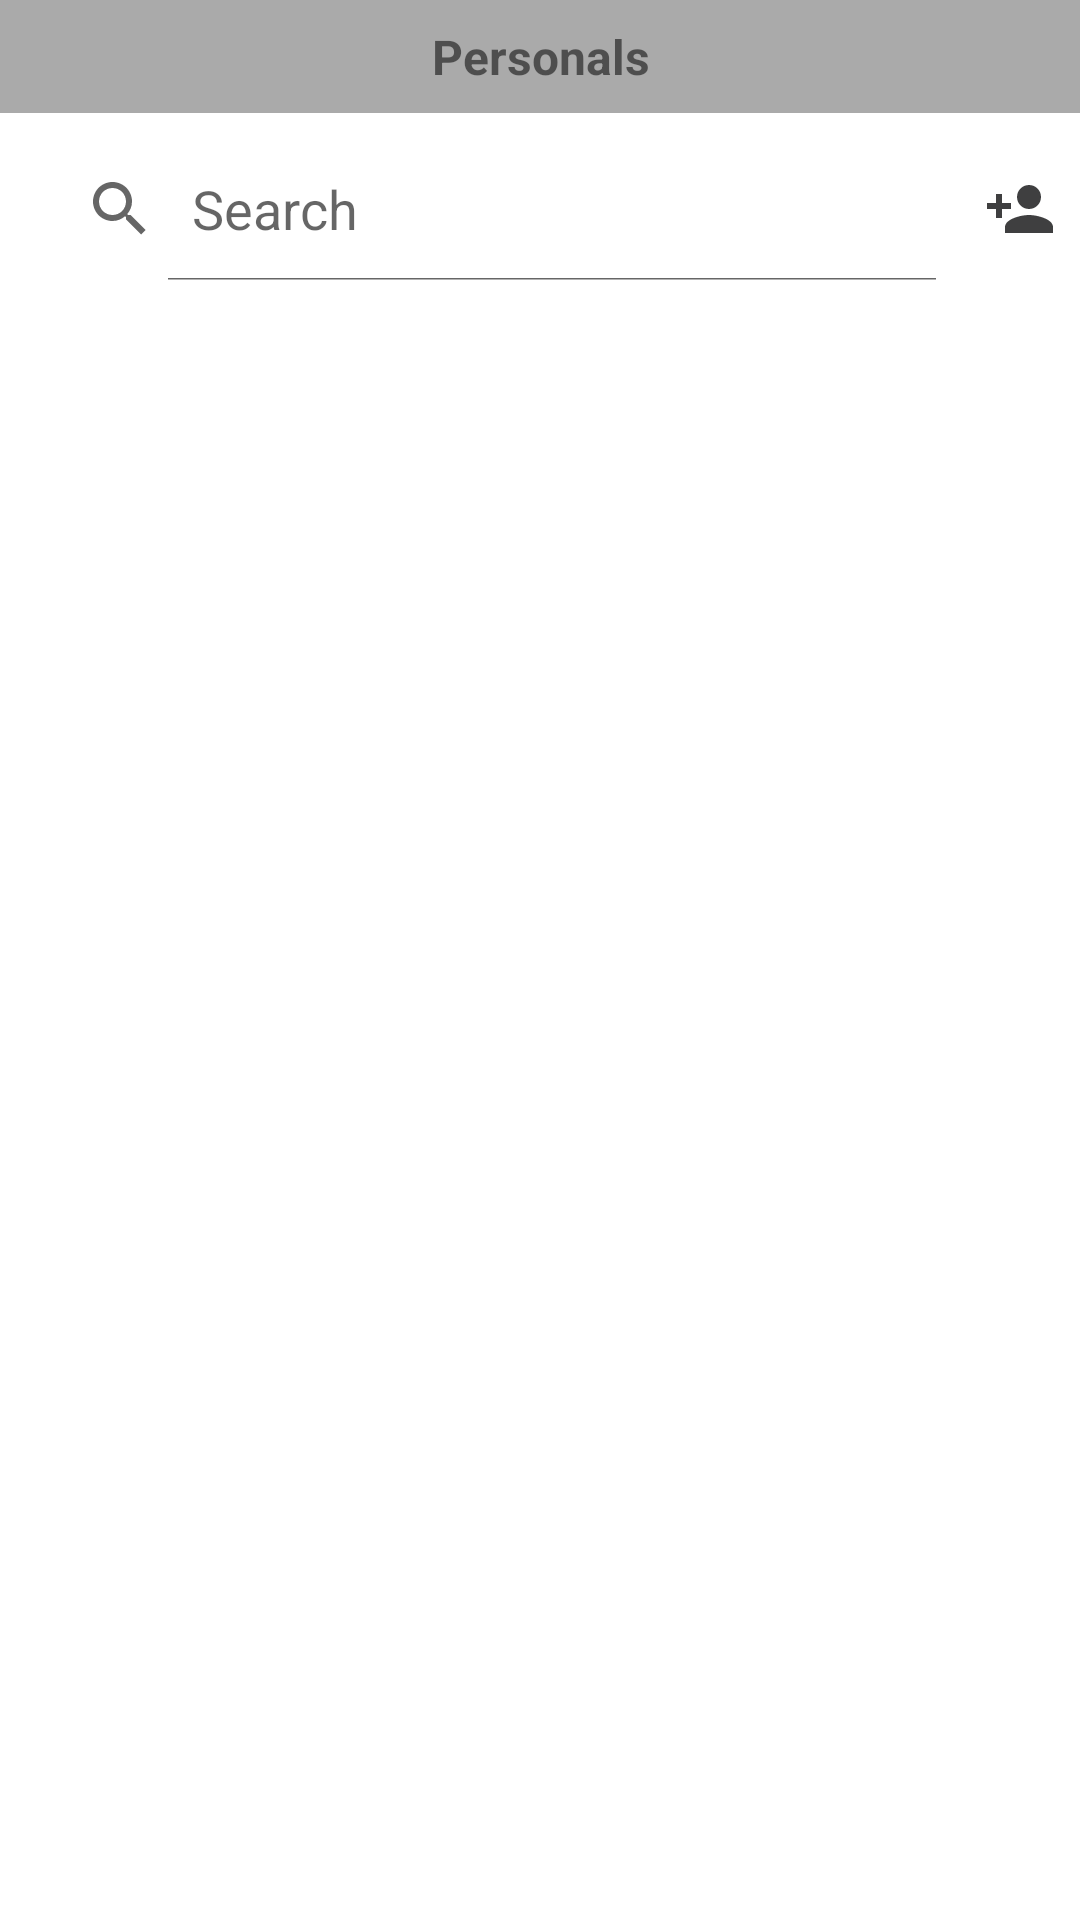

Named icons in this screenshot (1080 x 1920) and their bounding boxes, [left=x1, top=y1, right=x2, bottom=y2]:
Add User: [left=987, top=185, right=1053, bottom=233]
